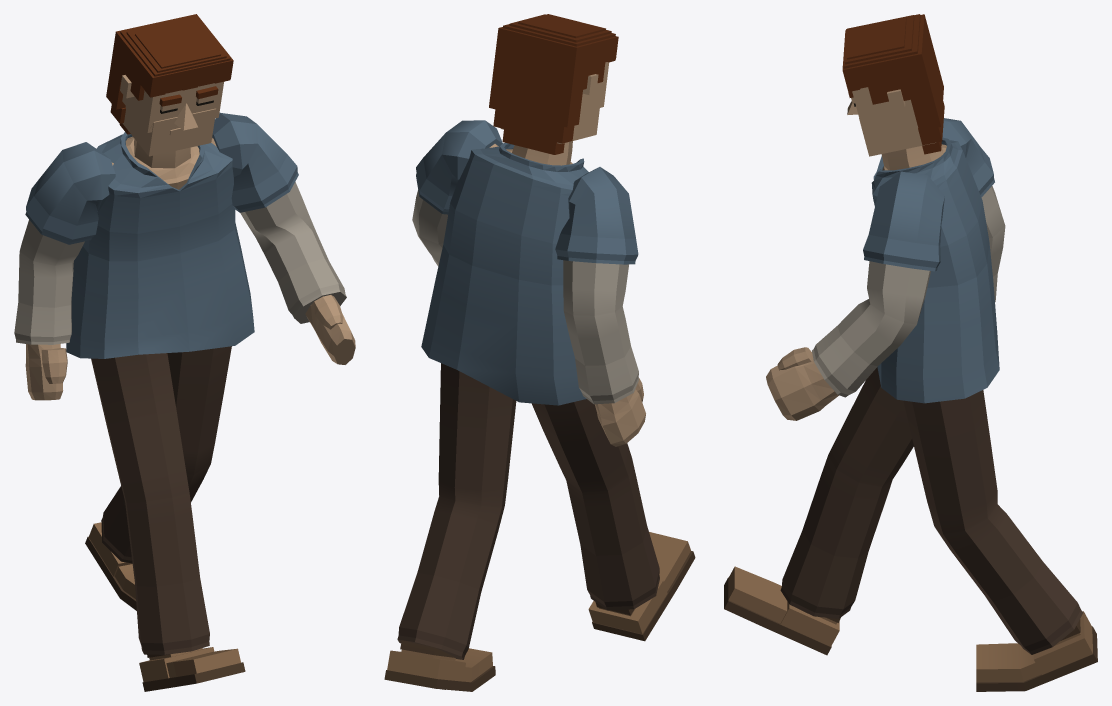
The model's file is suburban-resident-a9db9c__walk4.glb.
3 views of the same model, side by side, from view 1: azimuth 30°, elevation 25°; view 2: azimuth 150°, elevation 25°; view 3: azimuth 270°, elevation 25° (orthographic).
Parts seen in each view (by area): view 1: suburban-resident-a9db9c__walk4; view 2: suburban-resident-a9db9c__walk4; view 3: suburban-resident-a9db9c__walk4.
Boxes of the visible parts, <box> form: suburban-resident-a9db9c__walk4: <box>14,14,355,691</box>; suburban-resident-a9db9c__walk4: <box>384,14,695,691</box>; suburban-resident-a9db9c__walk4: <box>724,14,1097,691</box>.
Bounding box in the file's own units: 0.743 × 1.69 × 0.9128.
